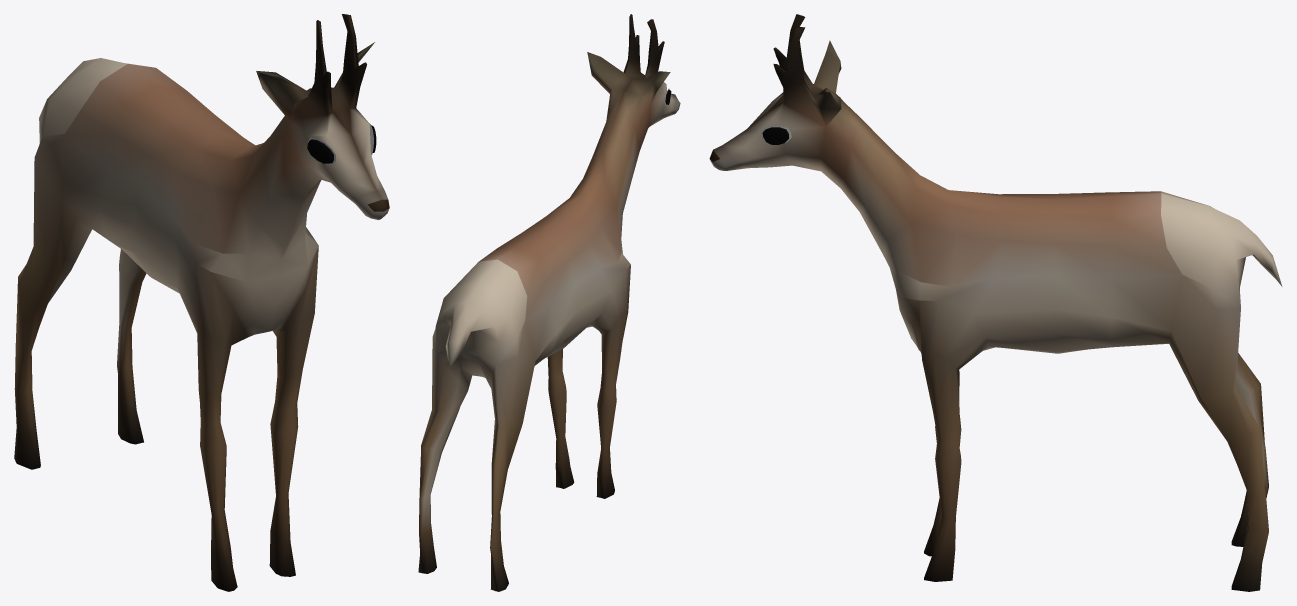
The model's file is animals-animals-pronghorn_v1.glb.
The picture shows the model from 3 angles, left to right: view 1: azimuth 30°, elevation 25°; view 2: azimuth 150°, elevation 25°; view 3: azimuth 270°, elevation 25°; orthographic projection. The views are drawn at different scales.
Parts seen in each view (by area): view 1: Pronghorn.001; view 2: Pronghorn.001; view 3: Pronghorn.001.
Part boxes in pixels (left/top/right/bottom): Pronghorn.001: left=14, top=14, right=389, bottom=591; Pronghorn.001: left=418, top=14, right=680, bottom=591; Pronghorn.001: left=709, top=14, right=1282, bottom=591.
Bounding box in the file's own units: 0.3611 × 1.74 × 1.66.
